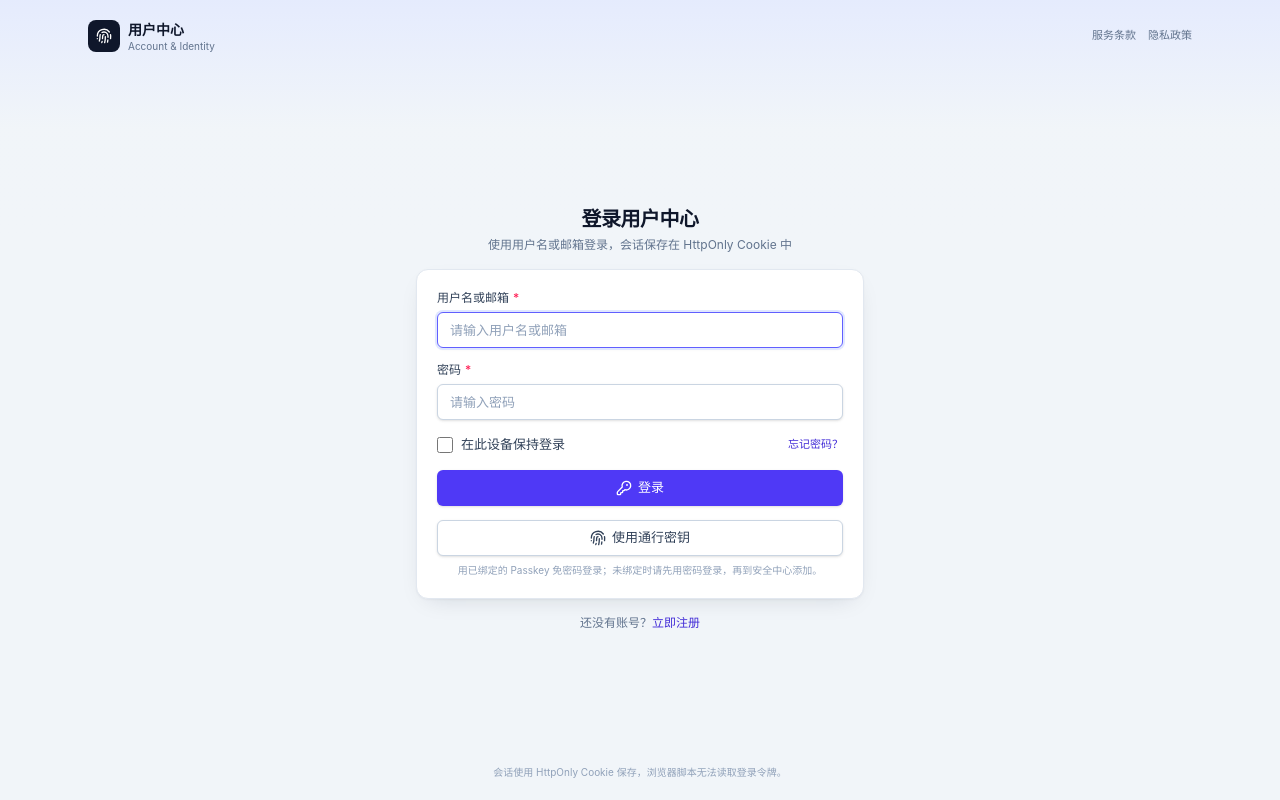
passkey passwordless login › requires an identifier before starting the ceremony
The width and height of the screenshot is (1280, 800).
Step 1. Click the button "使用通行密钥" → (640, 538), box [437, 520, 843, 556]
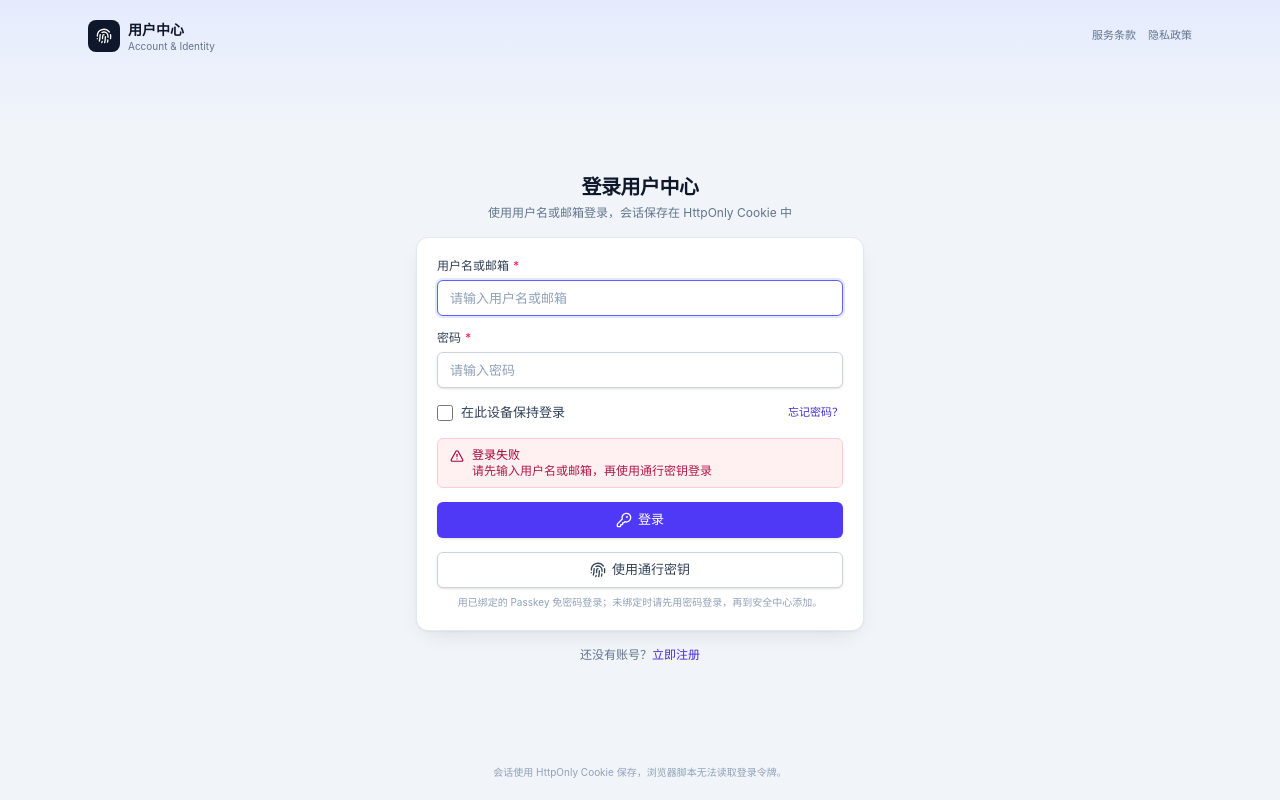
Expected: the text "请先输入用户名或邮箱，再使用通行密钥登录" is shown, [472, 463, 712, 479]
